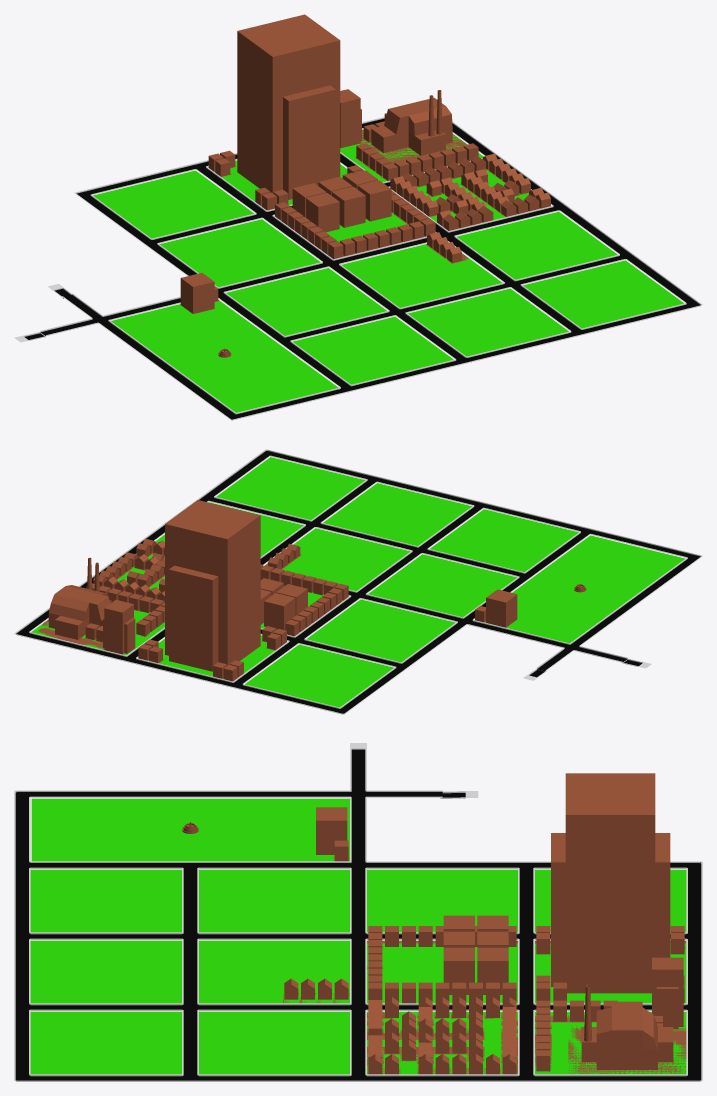
The model's file is stupid.fbx.
3 views of the same model, one above another, from view 1: azimuth 30°, elevation 25°; view 2: azimuth 150°, elevation 25°; view 3: azimuth 270°, elevation 25° (orthographic). The views are drawn at different scales.
Visible parts, largest first — view 1: Building.060, Plane.013, Plane.004, Plane.006, Plane.009, Plane.011, Plane.008, Plane.010, Plane.005, Plane.007, Plane.012, Road.007 (+27 smaller); view 2: Building.060, Plane.013, Plane.005, Plane.009, Plane.011, Plane.004, Plane.010, Plane.006, Plane.007, Plane.012, Building.061, Road.007 (+24 smaller); view 3: Building.060, Plane.013, Plane.009, Plane.010, Plane.011, Plane.006, Plane.008, Plane.007, Plane.005, Plane.012, Plane, Plane.002 (+34 smaller).
Boxes of the visible parts, box(x1,y1,x2,y2) form: Building.060: box(237, 14, 340, 199); Plane.013: box(111, 301, 338, 412); Plane.004: box(93, 170, 253, 238); Plane.006: box(226, 268, 386, 335); Plane.009: box(523, 260, 683, 328); Plane.011: box(293, 316, 453, 384); Plane.008: box(457, 211, 617, 279); Plane.010: box(408, 288, 568, 356); Plane.005: box(159, 219, 320, 287); Plane.007: box(341, 244, 502, 307); Plane.012: box(360, 90, 466, 163); Road.007: box(337, 286, 458, 337); Building.060: box(165, 500, 260, 671); Plane.013: box(484, 535, 684, 643); Plane.005: box(306, 599, 455, 662); Plane.009: box(216, 457, 365, 519); Plane.011: box(430, 509, 578, 572); Plane.004: box(245, 644, 393, 707); Plane.010: box(323, 483, 471, 545); Plane.006: box(368, 554, 516, 617); Plane.007: box(267, 528, 410, 590); Plane.012: box(38, 557, 111, 649); Building.061: box(103, 600, 135, 654); Road.007: box(364, 526, 476, 573); Building.060: box(551, 773, 670, 993); Plane.013: box(31, 798, 349, 861); Plane.009: box(30, 1011, 181, 1074); Plane.010: box(30, 940, 181, 1003); Plane.011: box(30, 869, 181, 932); Plane.006: box(199, 869, 349, 932); Plane.008: box(199, 1011, 349, 1074); Plane.007: box(199, 940, 349, 1003); Plane.005: box(367, 869, 517, 932); Plane.012: box(568, 984, 686, 1074); Plane: box(367, 941, 517, 1003); Plane.002: box(535, 1011, 686, 1074).
Bounding box in the file's own units: 4773 × 1179 × 4100.
